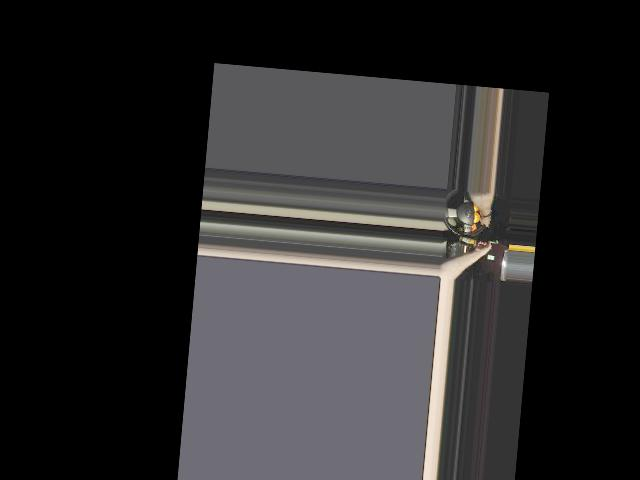beer: (458, 235, 492, 251)
